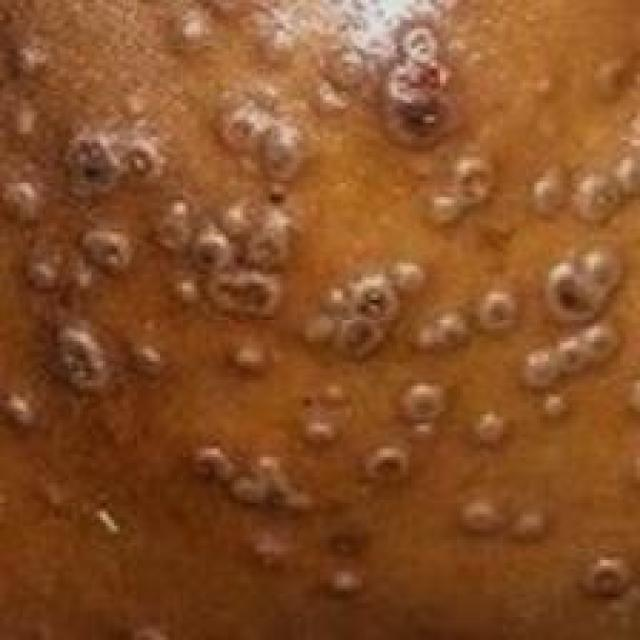monkeypox: (0, 0, 606, 621)
